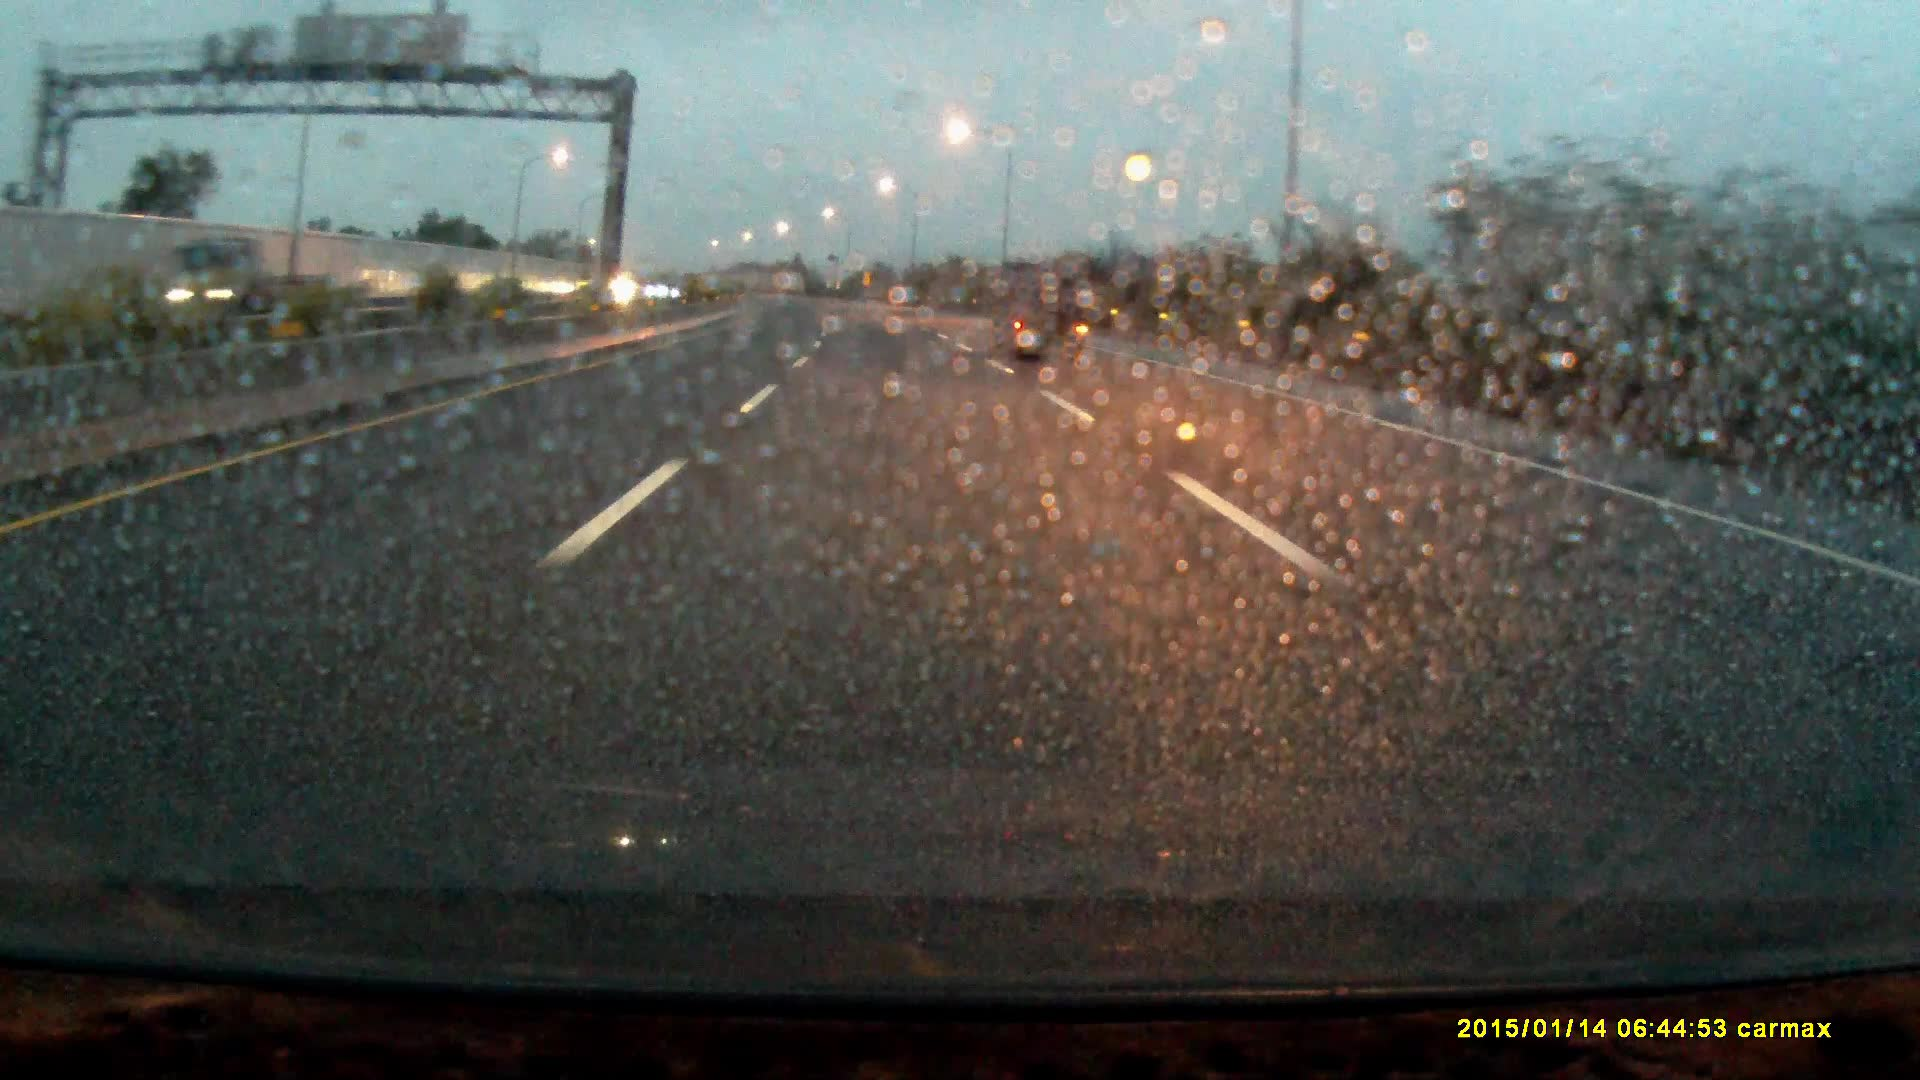vehicle: (152, 236, 324, 324), (1001, 276, 1089, 367)
